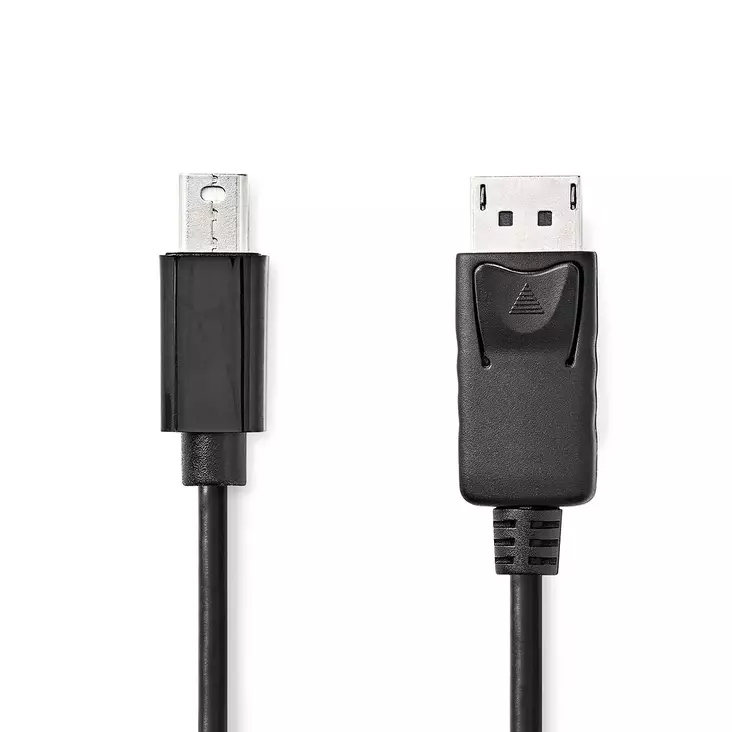DisplayPort: (466, 173, 586, 257)
